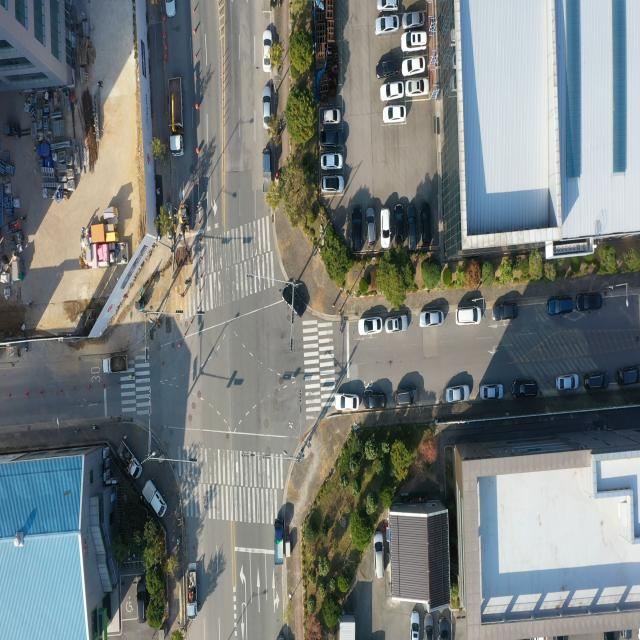car: (280, 285, 306, 317), (418, 200, 432, 250), (546, 294, 574, 316), (616, 366, 640, 391), (393, 201, 405, 249), (406, 202, 418, 250), (456, 307, 482, 326), (491, 305, 518, 323), (365, 202, 376, 246), (374, 16, 398, 36), (513, 380, 539, 398), (405, 31, 429, 50), (577, 293, 602, 311), (446, 384, 471, 402), (407, 79, 429, 99), (383, 105, 406, 124), (381, 83, 404, 102), (320, 129, 343, 148), (358, 317, 382, 335), (556, 374, 580, 392), (352, 208, 362, 250), (381, 206, 391, 248), (364, 390, 386, 409), (403, 58, 426, 76), (419, 312, 444, 328), (404, 10, 426, 28), (385, 316, 408, 333), (479, 384, 503, 400), (378, 60, 398, 79), (583, 370, 604, 388), (336, 393, 358, 410), (264, 30, 273, 71), (376, 532, 384, 577), (320, 154, 341, 171), (322, 176, 342, 193), (395, 389, 415, 406), (437, 612, 448, 640), (264, 87, 272, 124), (322, 108, 340, 124), (412, 612, 421, 640), (378, 0, 398, 12), (425, 614, 434, 640), (166, 0, 176, 23)
medium_truck: (170, 77, 182, 156)
small_truck: (118, 436, 142, 482), (141, 479, 166, 518), (186, 564, 200, 620), (272, 516, 283, 559), (262, 146, 272, 193), (102, 355, 130, 371)
